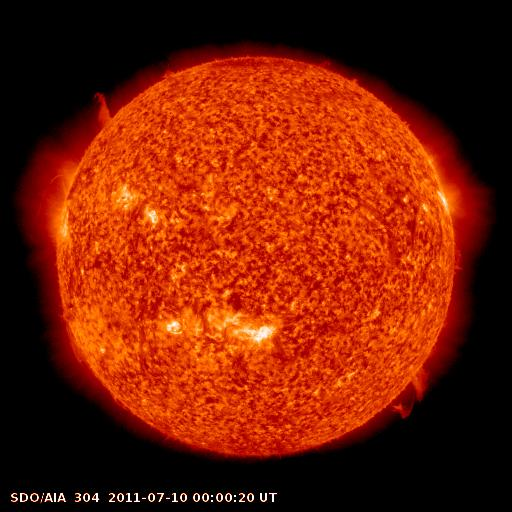prominence: (382, 362, 439, 424), (81, 85, 129, 137), (57, 311, 95, 374)
